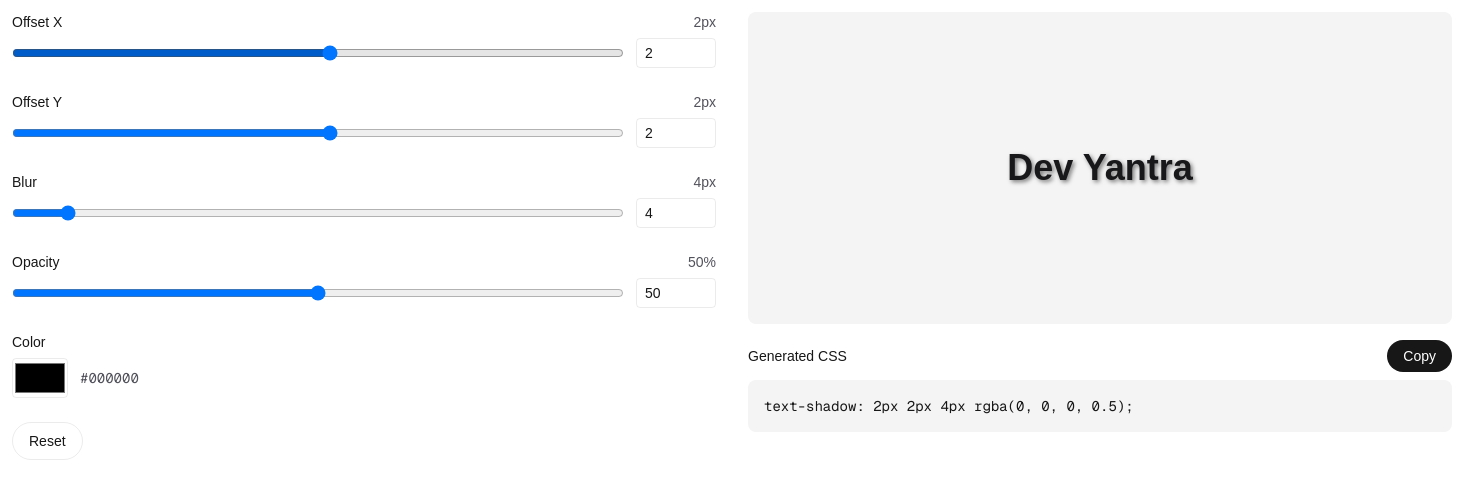
Test: TextShadowGenerator › resets to defaults after a change
Set the slider labelled "Blur" to "30" at (378,213), box [12, 205, 624, 221]
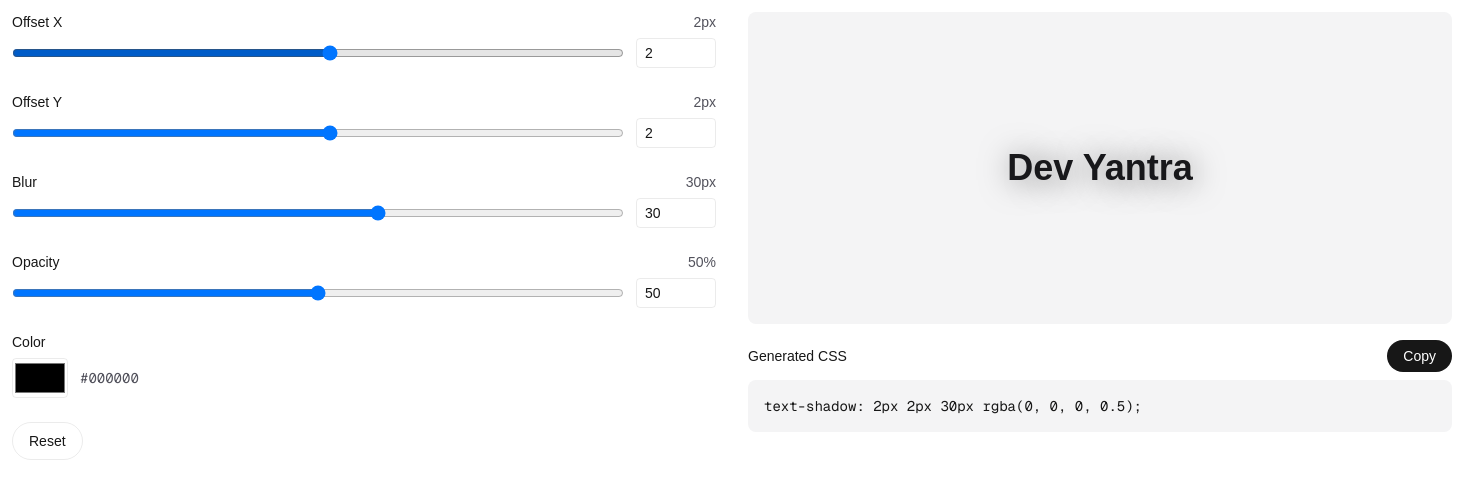
Click the button "Reset" at (47,441), box [12, 422, 83, 460]
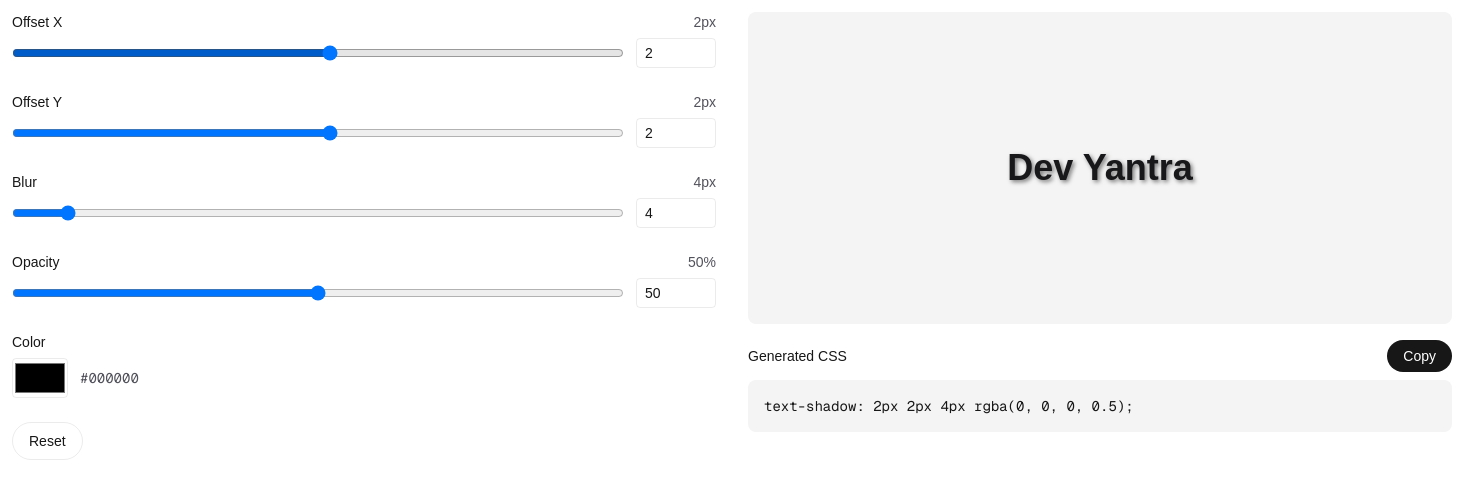
Expected: the text "text-shadow: 2px 2px 4px rgba(0, 0, 0, 0.5);" is shown, [748, 380, 1452, 432]
